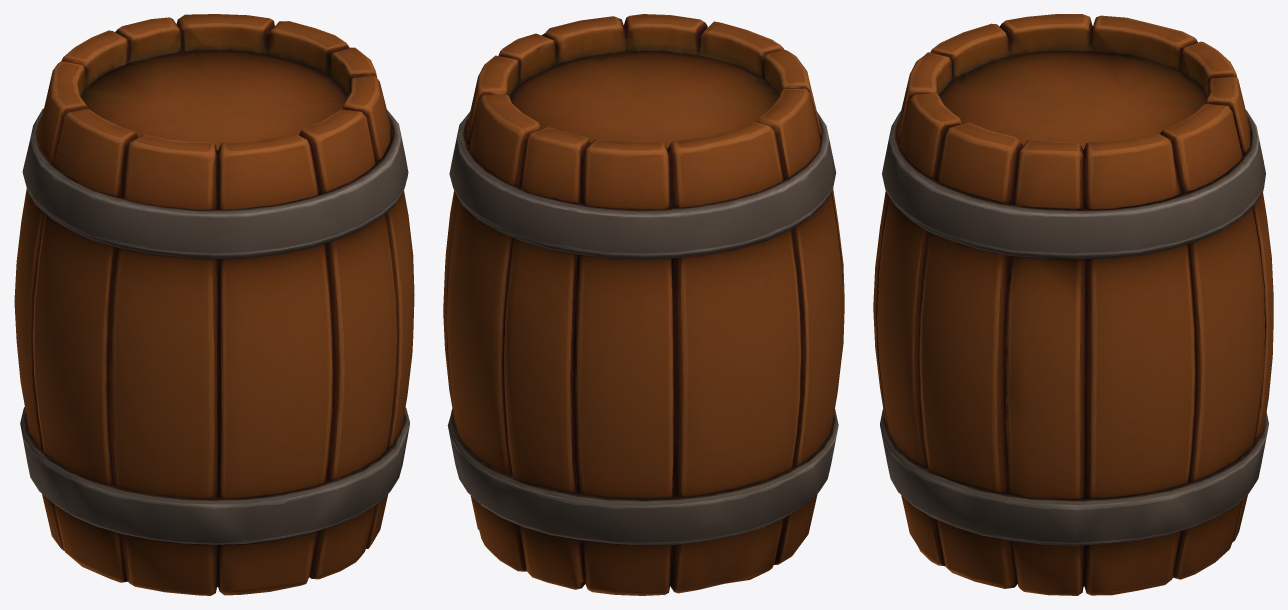
Rendered from selected.glb.
3 views of the same model, side by side, from view 1: azimuth 30°, elevation 25°; view 2: azimuth 150°, elevation 25°; view 3: azimuth 270°, elevation 25° (orthographic).
Visible parts, largest first — view 1: tripo_node_0485725b-2260-4bb7-af90-7bcc2fa291c9; view 2: tripo_node_0485725b-2260-4bb7-af90-7bcc2fa291c9; view 3: tripo_node_0485725b-2260-4bb7-af90-7bcc2fa291c9.
Part boxes in pixels (x1,y1,x2,y2): tripo_node_0485725b-2260-4bb7-af90-7bcc2fa291c9: (14, 14, 414, 595); tripo_node_0485725b-2260-4bb7-af90-7bcc2fa291c9: (443, 14, 844, 595); tripo_node_0485725b-2260-4bb7-af90-7bcc2fa291c9: (873, 14, 1273, 595).
Size of the model in its own units: 0.8145 by 0.998 by 0.8145.
1 material, 1 textured.
